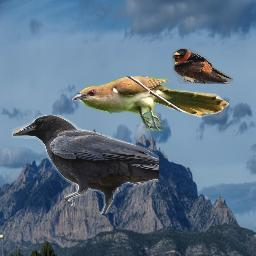Crow: (12, 115, 159, 214)
Cuckoo: (72, 76, 230, 131)
Swallow: (172, 48, 233, 84)
